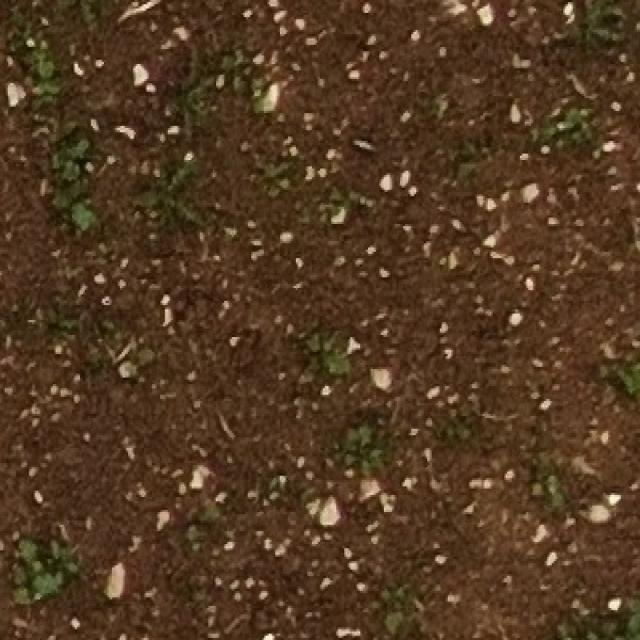cirse: (147, 151, 219, 234), (144, 163, 217, 244), (140, 158, 210, 235), (165, 50, 224, 139), (170, 58, 226, 145), (159, 52, 217, 135)
